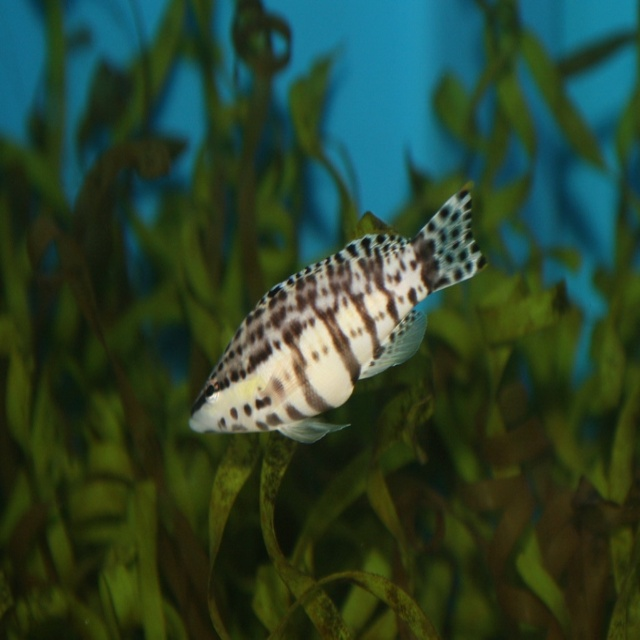Fish: (192, 173, 488, 478)
